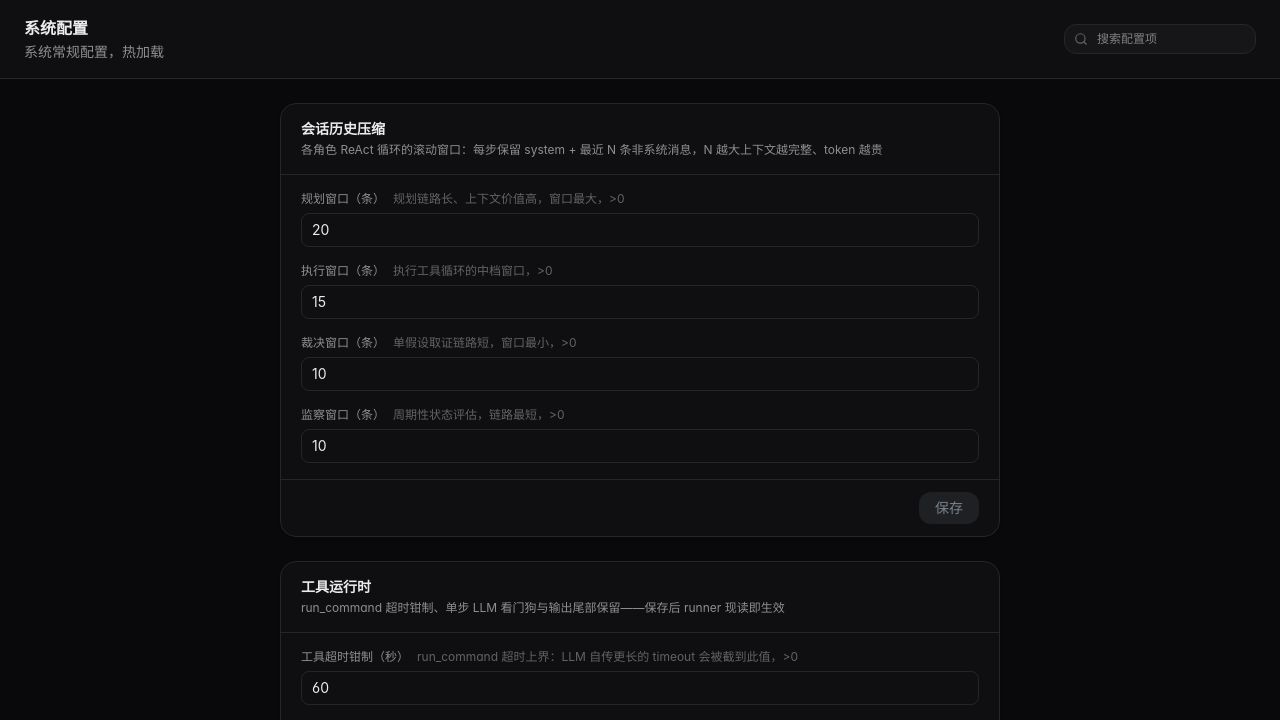
Test: SystemConfig › 搜索"压缩"仅显示会话历史压缩分区
The image size is (1280, 720).
Check: the heading "会话历史压缩" is shown, box [301,122,385,138]
Check: the heading "工具运行时" is shown, box [301,580,371,596]
 输入搜索关键词
Type "压缩" into the search field with placeholder "搜索配置项". click: (1160, 39)
box: [1064,24,1256,54]
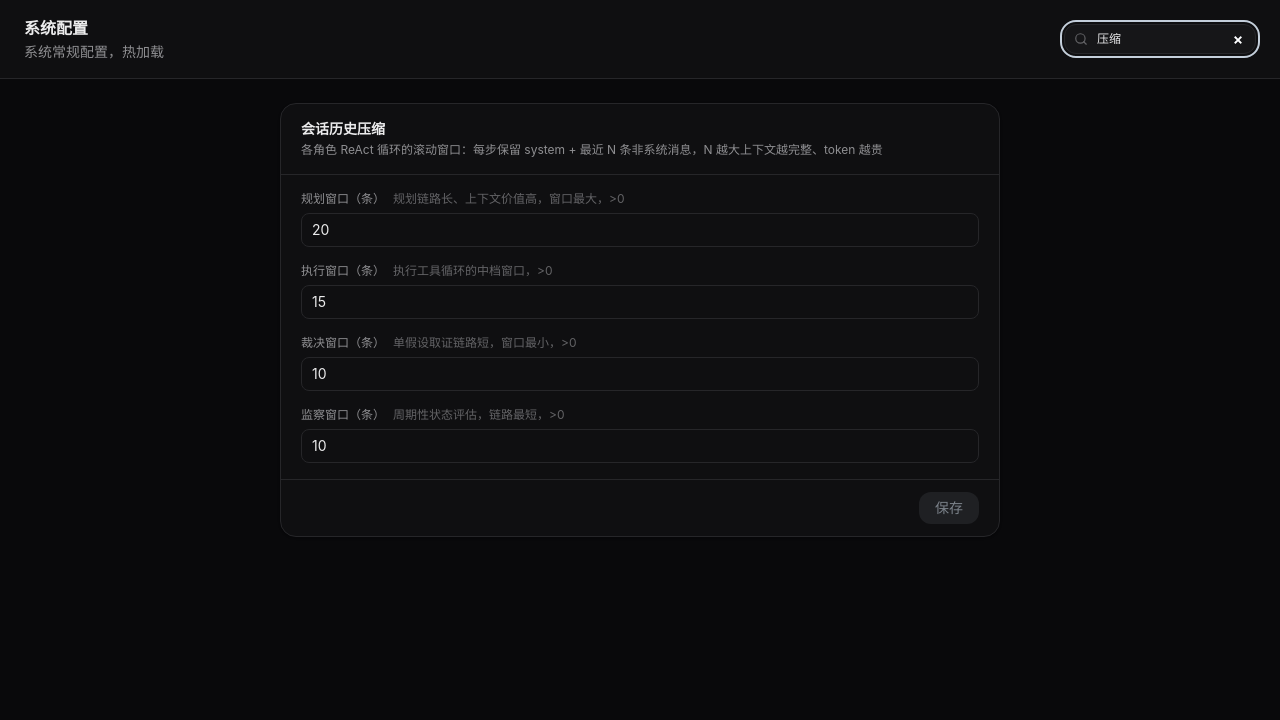
Check: the heading "会话历史压缩" is shown, box [301,122,385,138]
Check: the heading "工具运行时" is gone
